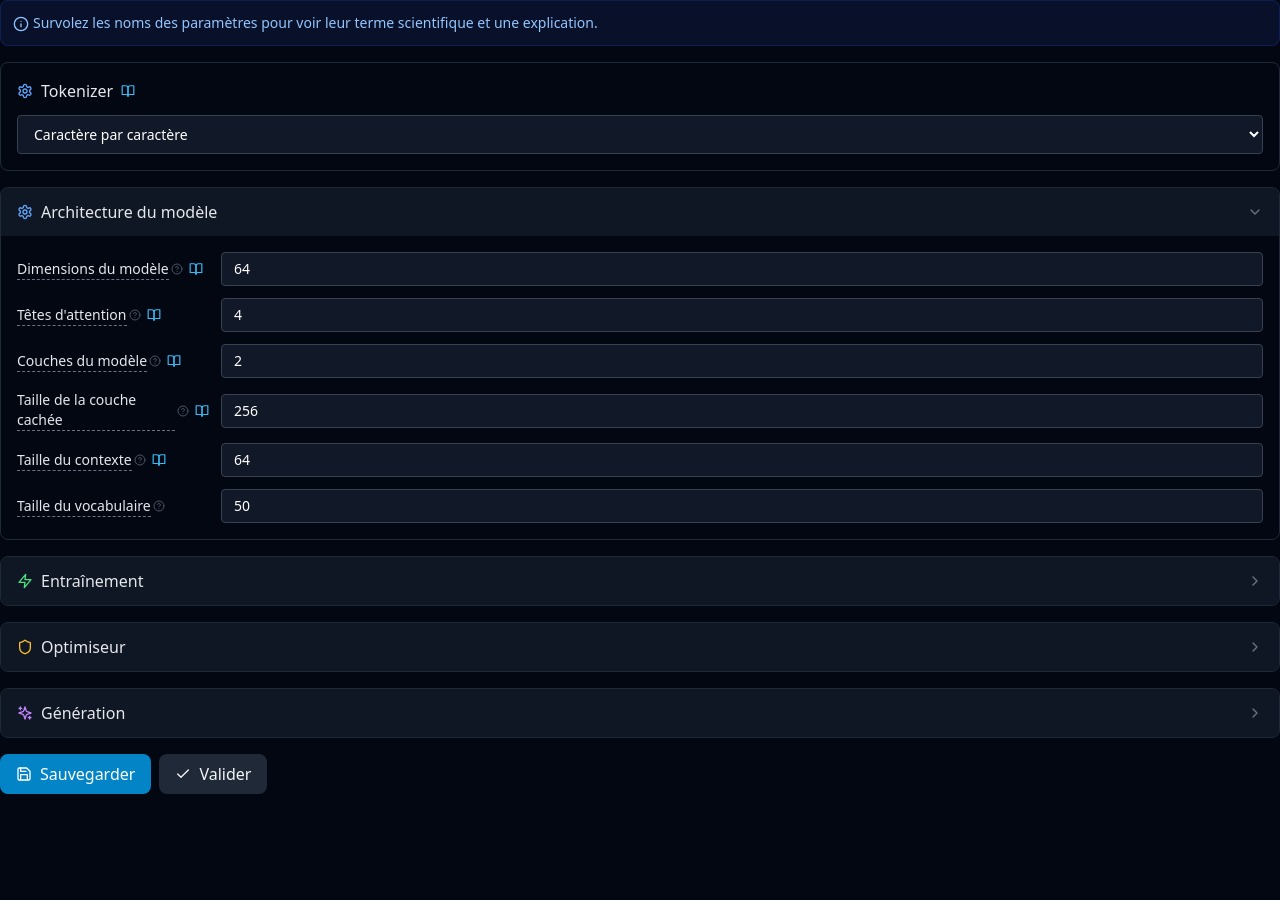
Scenario: PlaygroundConfig › la section Entraînement contient le sélecteur lr_schedule après expansion
The image size is (1280, 900).
Expected: the text "Entraînement" is shown, [41,569,144,593]
// Expand the Training category
Click the button "Entraînement" at (92, 581), box [1,557,1279,605]
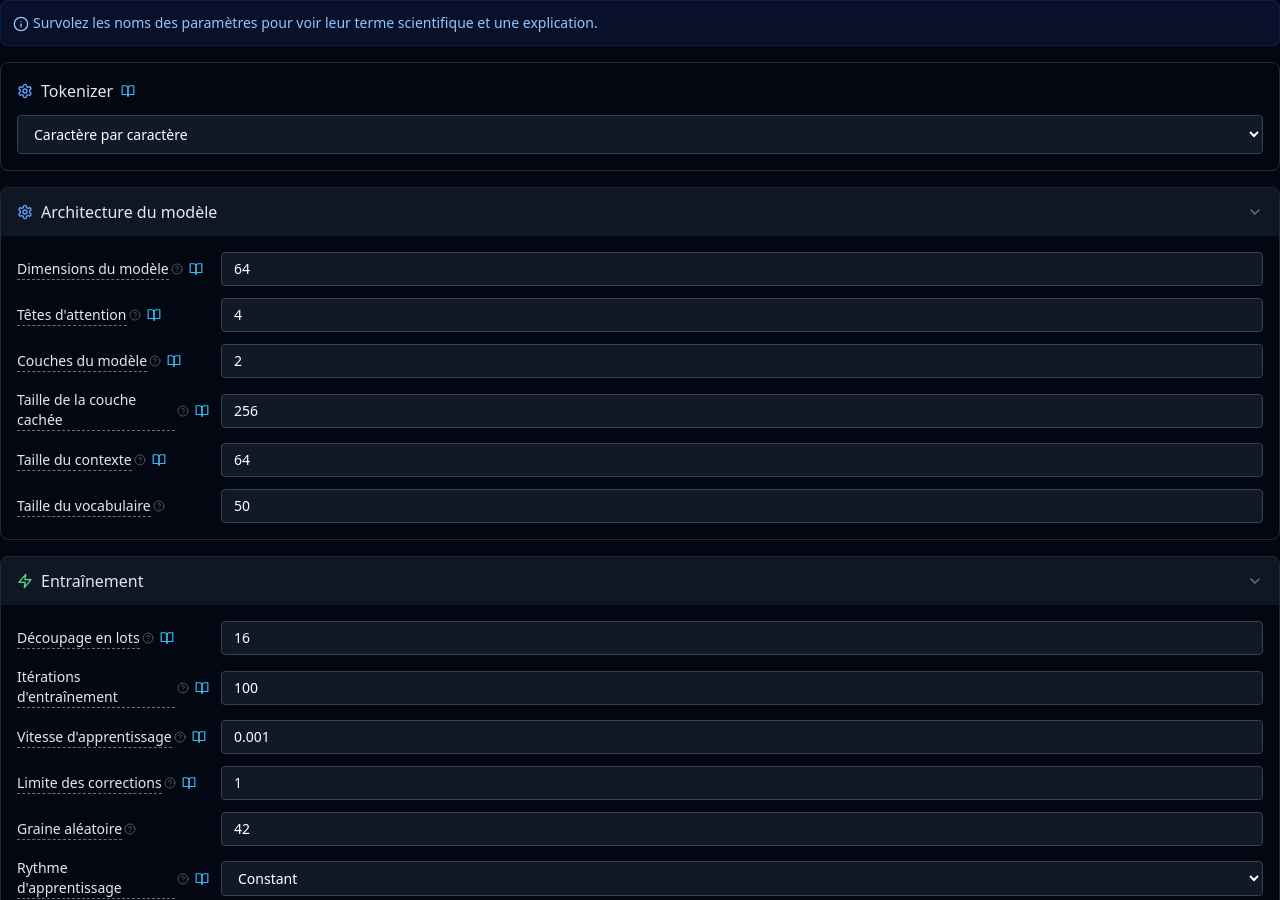
Expected: the dropdown next to "Rythme d'apprentissage" shows "Constant", [221,861,1263,896]
